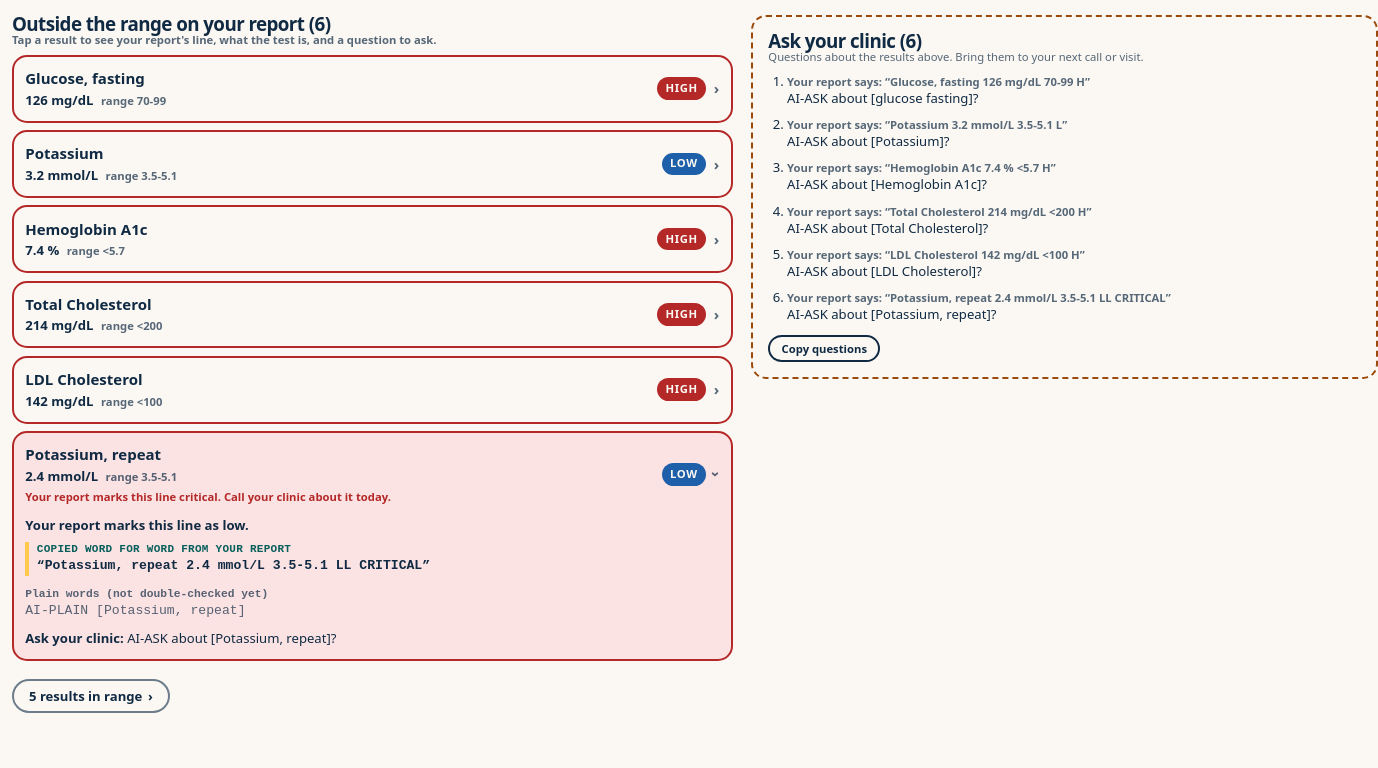
Test case: flagged results: one row each, the report's own words, our code's chip › opening a row shows our reason, the report's line first, then the plain name (marked) and the question
What coordinates should you click on to do the following:
click the button "Glucose, fasting 126 mg/dL range 70-99 High ›"
I would click on:
 (85, 78)
Its box is [14,57,731,121].
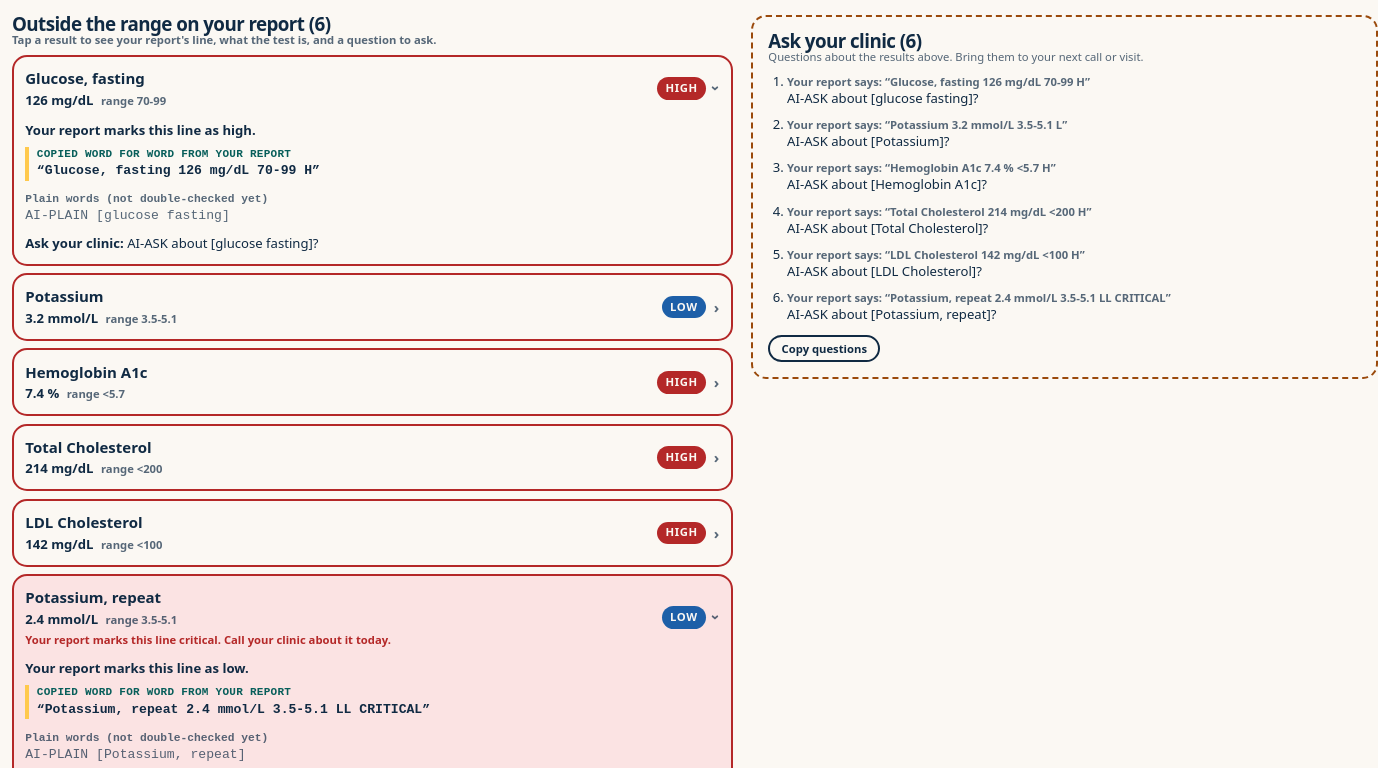
Now the text "not double-checked" is shown, box [25,194,268,206]
Now the element showing "Ask your clinic: AI-ASK about [glucose fasting]?" is shown, box [25,234,318,252]
